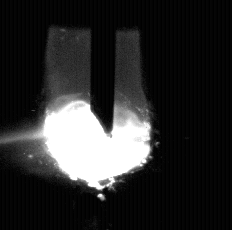arame: (91, 0, 115, 138)
poca: (45, 0, 149, 230)
